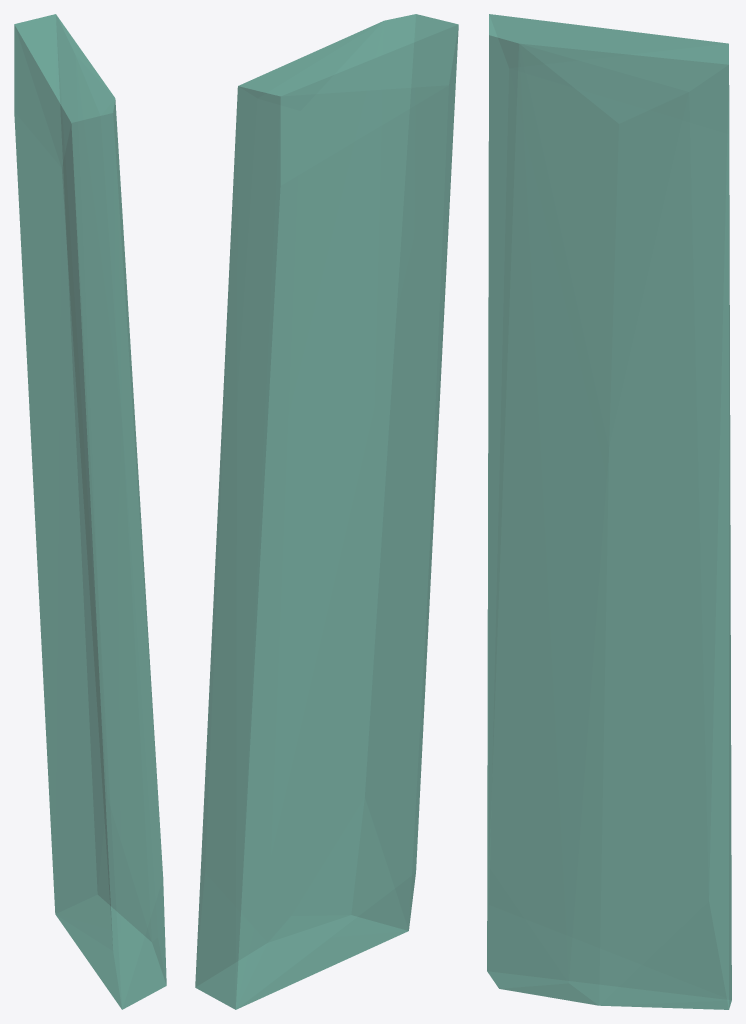
3 renders of one model, left to right at view 1: azimuth 30°, elevation 25°; view 2: azimuth 150°, elevation 25°; view 3: azimuth 270°, elevation 25°, orthographic. The views are drawn at different scales.
Parts seen in each view (by area): view 1: Shape_IndexedFaceSet.033_Shape_IndexedFaceSet.3690; view 2: Shape_IndexedFaceSet.033_Shape_IndexedFaceSet.3690; view 3: Shape_IndexedFaceSet.033_Shape_IndexedFaceSet.3690.
Part boxes in pixels (x1,y1,x2,y2): Shape_IndexedFaceSet.033_Shape_IndexedFaceSet.3690: (14, 14, 166, 1009); Shape_IndexedFaceSet.033_Shape_IndexedFaceSet.3690: (195, 14, 458, 1009); Shape_IndexedFaceSet.033_Shape_IndexedFaceSet.3690: (487, 14, 731, 1009).
Size of the model in its own units: 0.0476 by 0.2891 by 0.0686.
